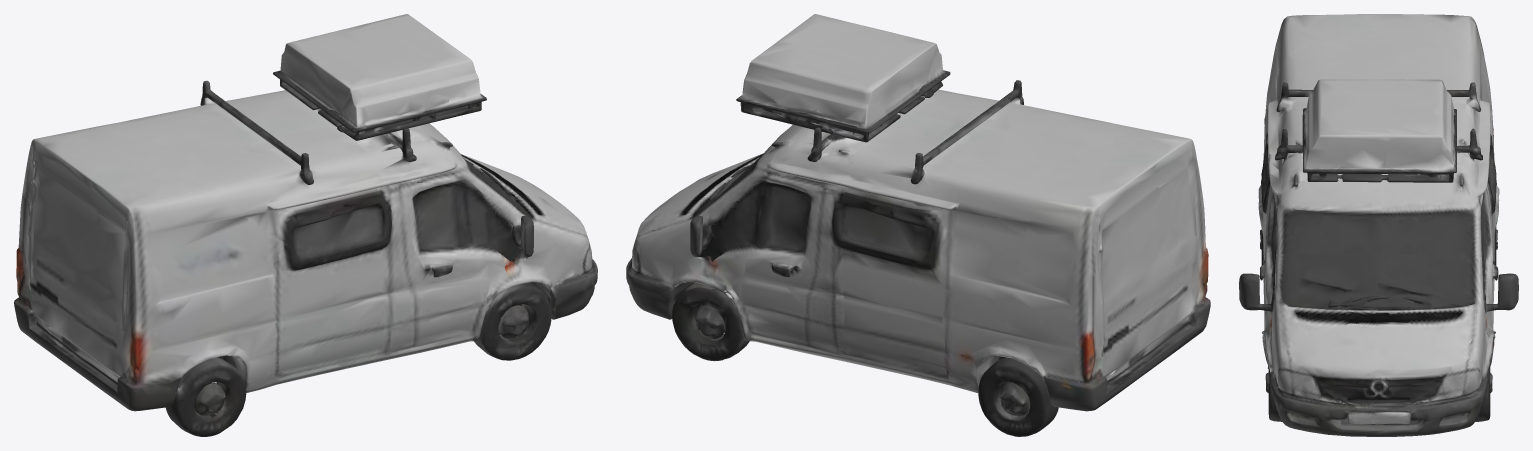
File: service-van.glb
3 renders of one model, left to right at view 1: azimuth 30°, elevation 25°; view 2: azimuth 150°, elevation 25°; view 3: azimuth 270°, elevation 25°, orthographic. The views are drawn at different scales.
Parts seen in each view (by area): view 1: tripo_node_2a49cac6-9b08-467d-81df-a9a6f25807b7; view 2: tripo_node_2a49cac6-9b08-467d-81df-a9a6f25807b7; view 3: tripo_node_2a49cac6-9b08-467d-81df-a9a6f25807b7.
Boxes of the visible parts, x1,y1,x2,y2 form: tripo_node_2a49cac6-9b08-467d-81df-a9a6f25807b7: (14,14,597,436); tripo_node_2a49cac6-9b08-467d-81df-a9a6f25807b7: (626,14,1210,436); tripo_node_2a49cac6-9b08-467d-81df-a9a6f25807b7: (1239,14,1518,436).
Size of the model in its own units: 0.9999 by 0.5557 by 0.5136.
1 material, 1 textured.
